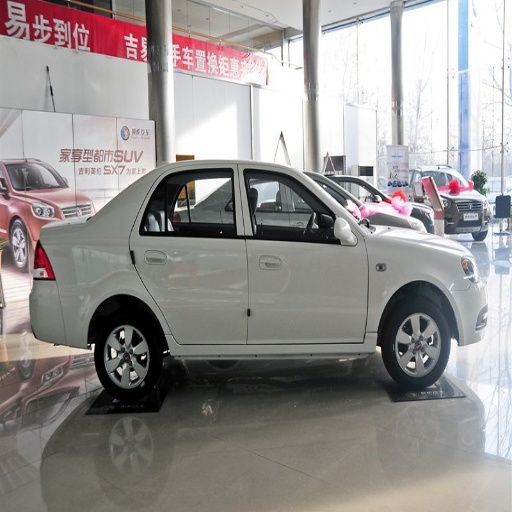back_right_door: (132, 165, 247, 347)
front_right_door: (241, 166, 368, 343)
